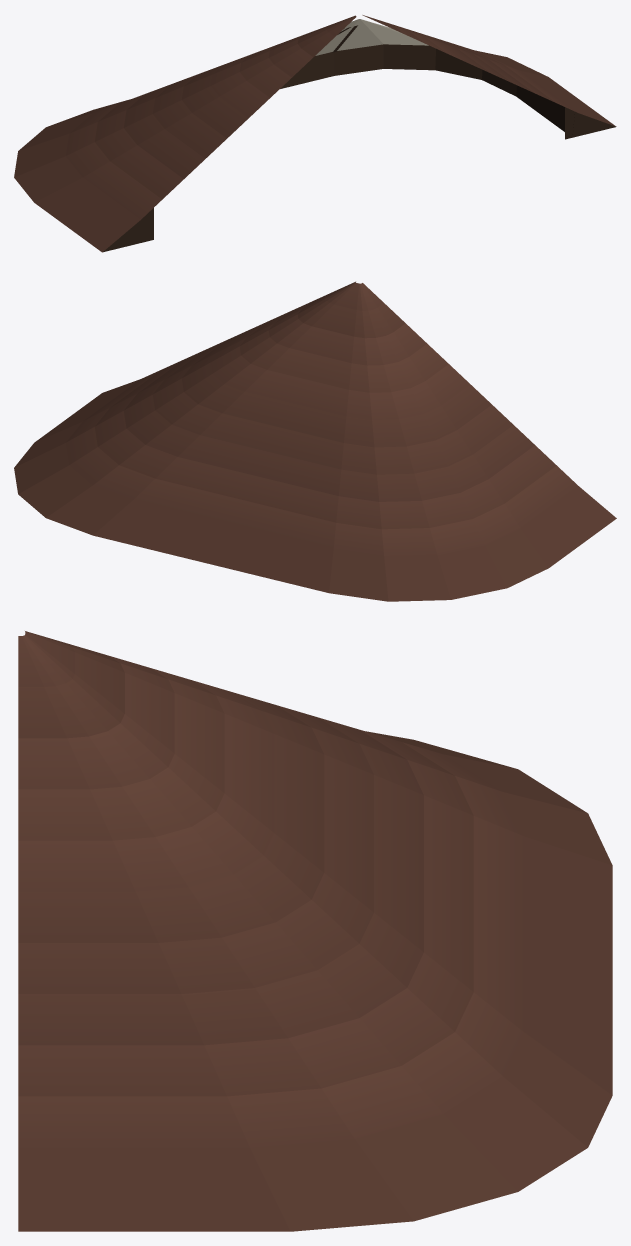
The model's file is roof.hip_round.shingle.glb.
3 views of the same model, one above another, from view 1: azimuth 30°, elevation 25°; view 2: azimuth 150°, elevation 25°; view 3: azimuth 270°, elevation 25° (orthographic). The views are drawn at different scales.
Parts seen in each view (by area): view 1: roof_hip_round_shingle; view 2: roof_hip_round_shingle; view 3: roof_hip_round_shingle.
Part boxes in pixels (box(x1,y1,x2,y2)): roof_hip_round_shingle: box(14, 15, 616, 252); roof_hip_round_shingle: box(14, 281, 616, 601); roof_hip_round_shingle: box(18, 631, 612, 1231).
Size of what is drawn, in the model's own units: 17.36 by 5.6 by 8.68.
